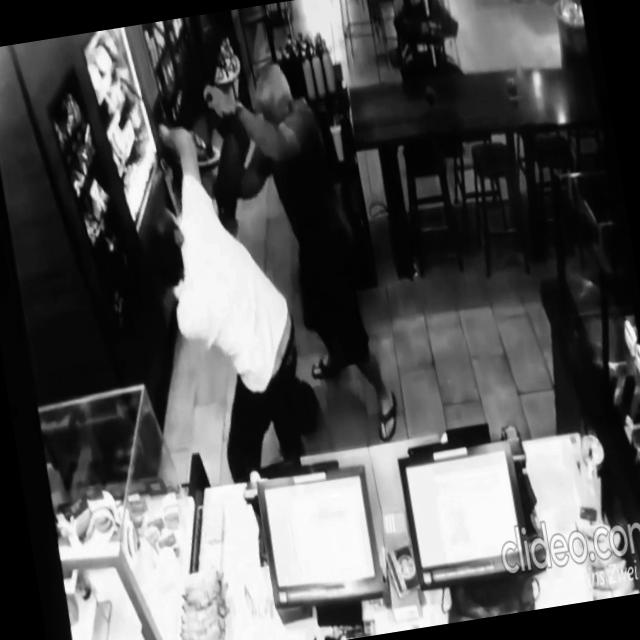person: (200, 50, 403, 465), (129, 106, 316, 480)
